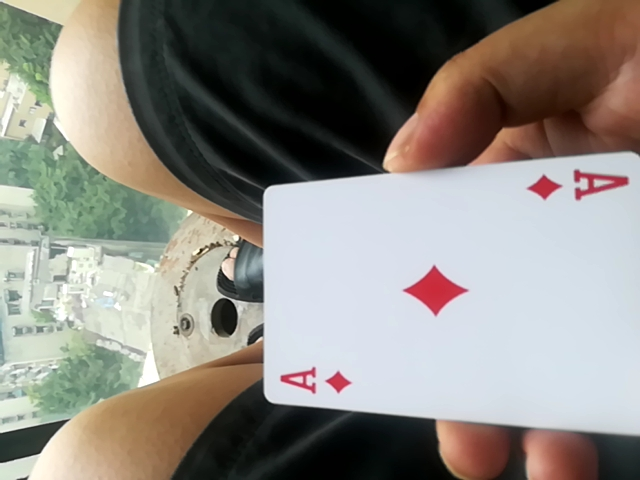fk a: (257, 152, 639, 450)
